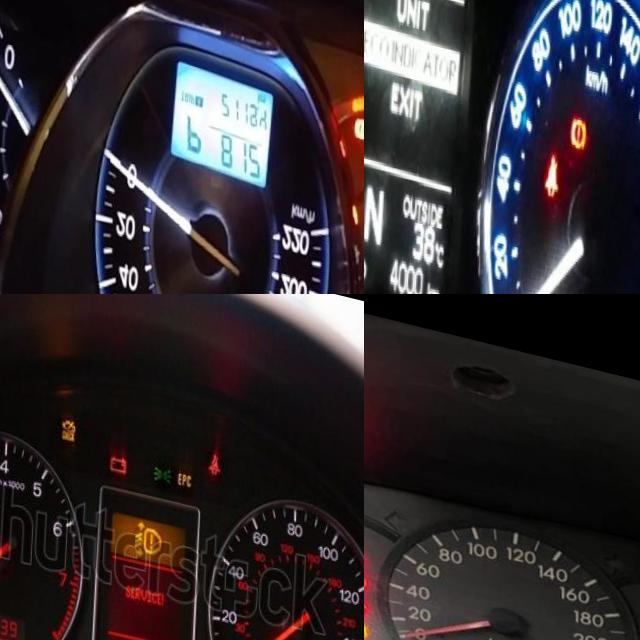Seat Belt: (548, 130, 563, 174)
